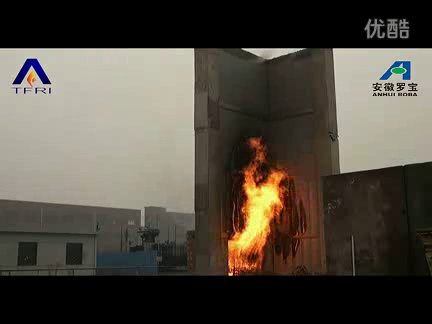fire: (222, 133, 299, 273)
